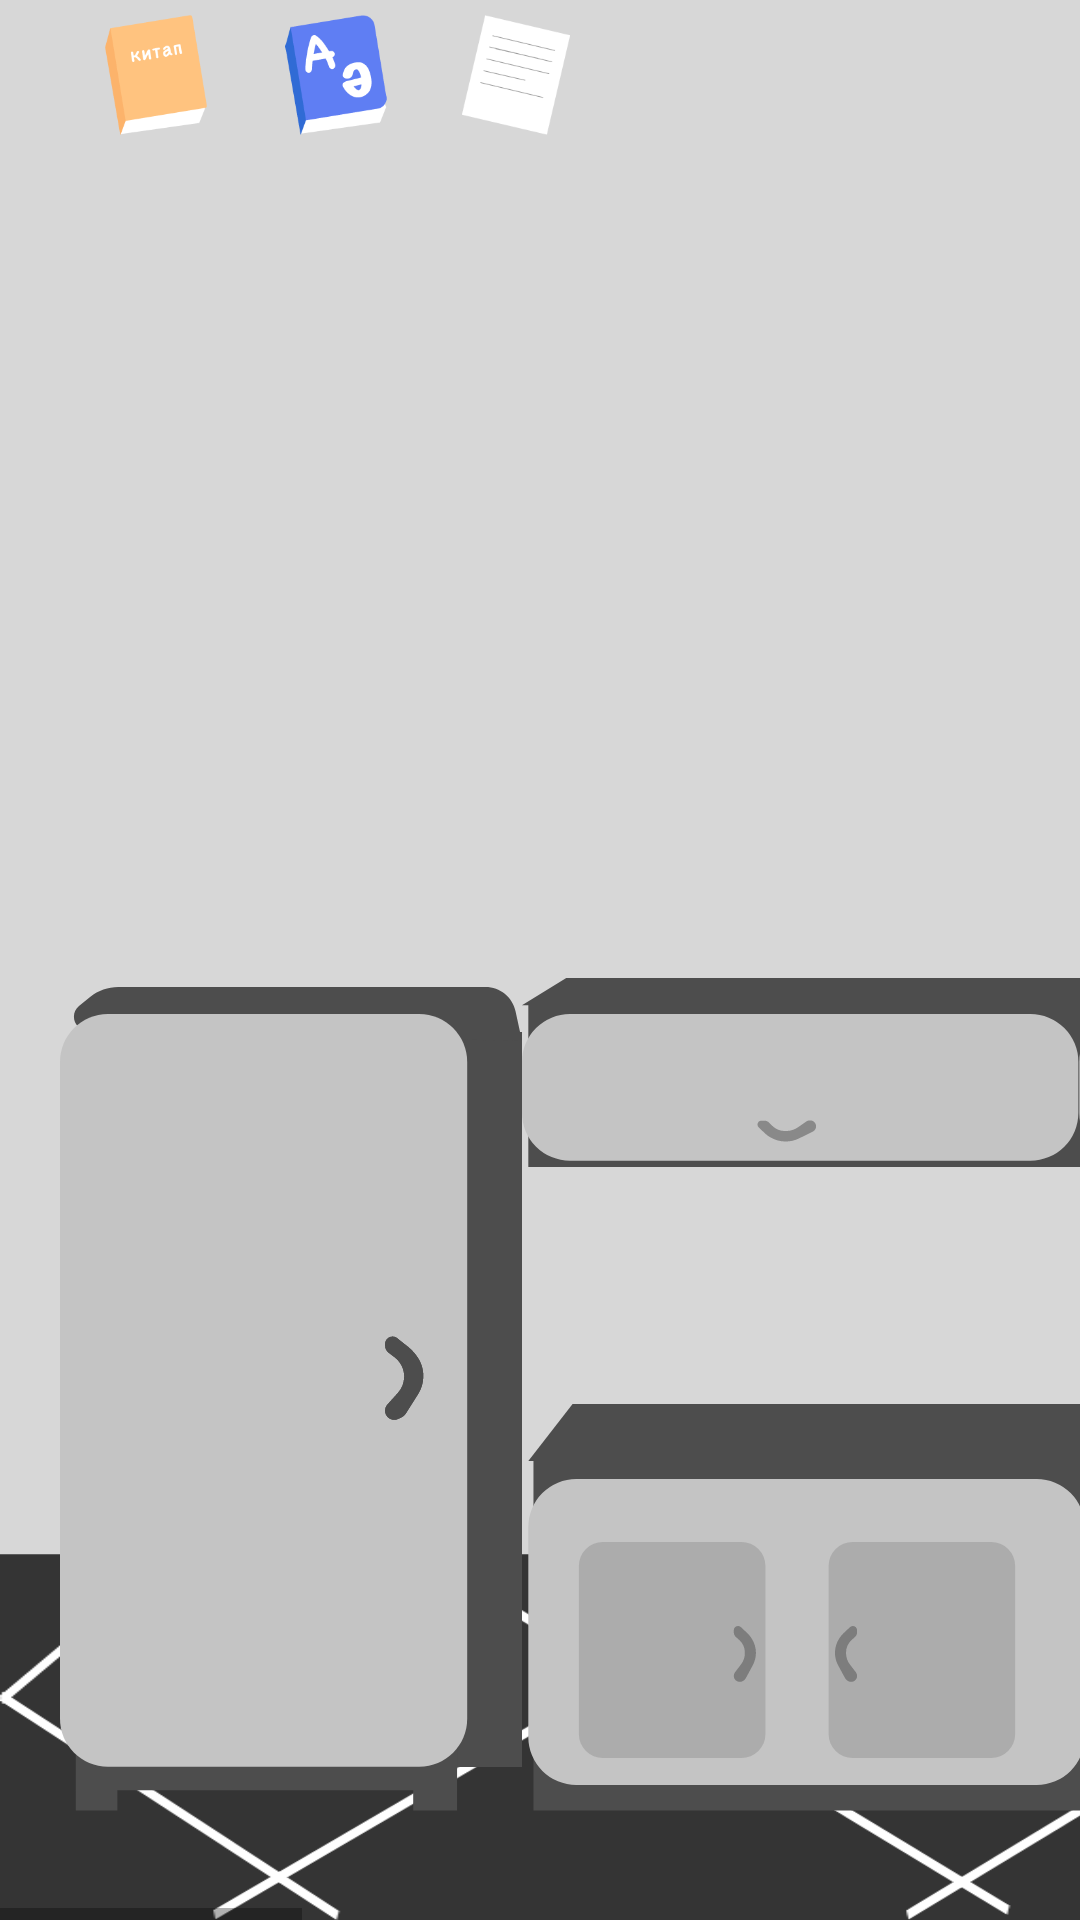

Screen size 1080px×1920px. Icon name, then its box in pixels as (x1, y1, x2, y2):
Записка: (462, 16, 570, 134)
Словарь: (285, 15, 387, 135)
